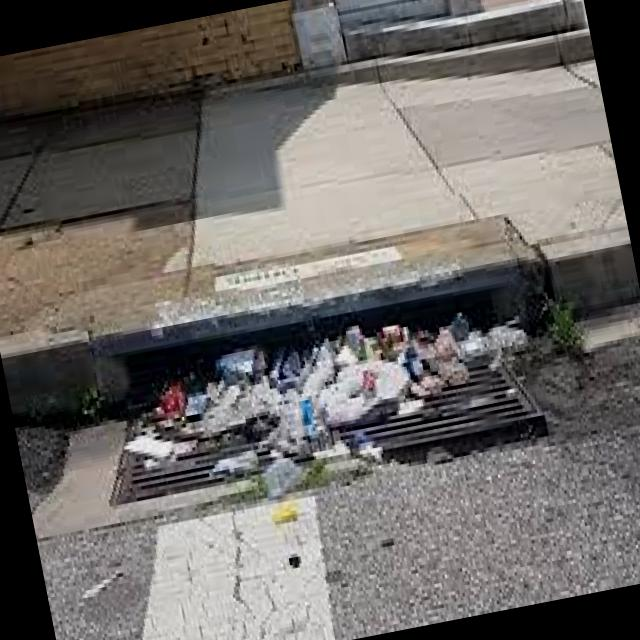garbage: (107, 271, 541, 517)
